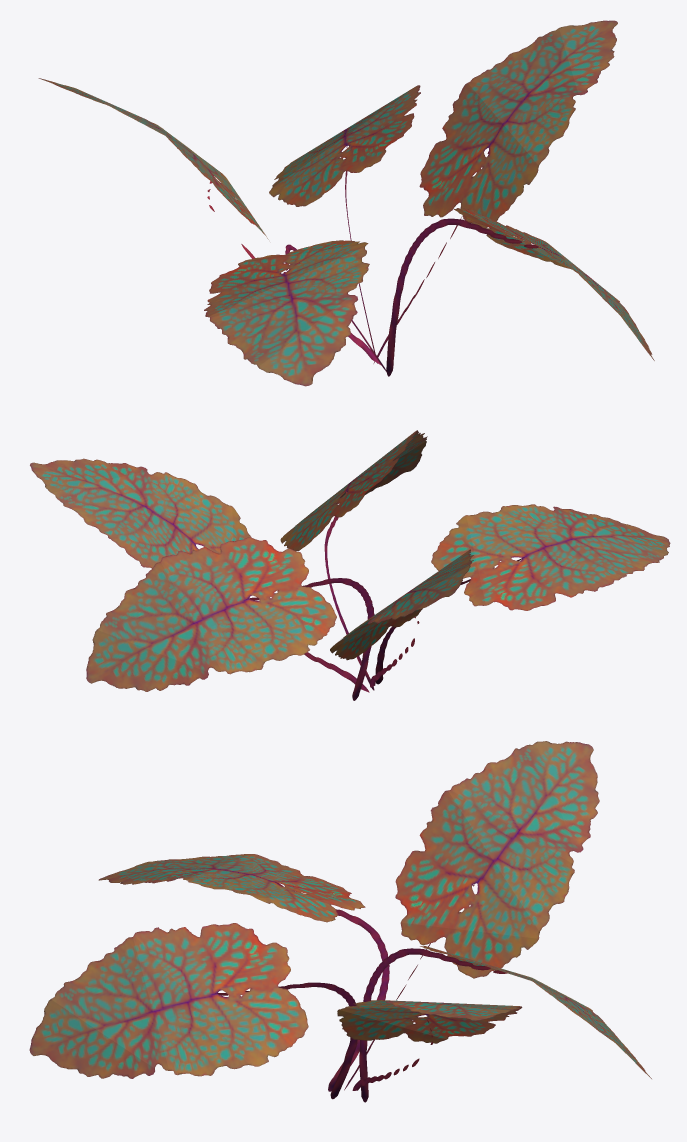
Rendered from Spin Reef B1.fbx.
The picture shows the model from 3 angles, top to bottom: view 1: azimuth 30°, elevation 25°; view 2: azimuth 150°, elevation 25°; view 3: azimuth 270°, elevation 25°; orthographic projection. The views are drawn at different scales.
Parts seen in each view (by area): view 1: Spin Reef B1; view 2: Spin Reef B1; view 3: Spin Reef B1.
Boxes of the visible parts, x1,y1,x2,y2 form: Spin Reef B1: [38, 20, 654, 386]; Spin Reef B1: [30, 430, 670, 700]; Spin Reef B1: [29, 741, 651, 1102].
Bounding box in the file's own units: 159 × 76.96 × 167.
